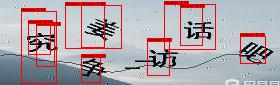chinese: (235, 40, 275, 70), (25, 29, 60, 55), (84, 14, 119, 40), (184, 19, 216, 43), (148, 48, 181, 71), (80, 55, 107, 78)
